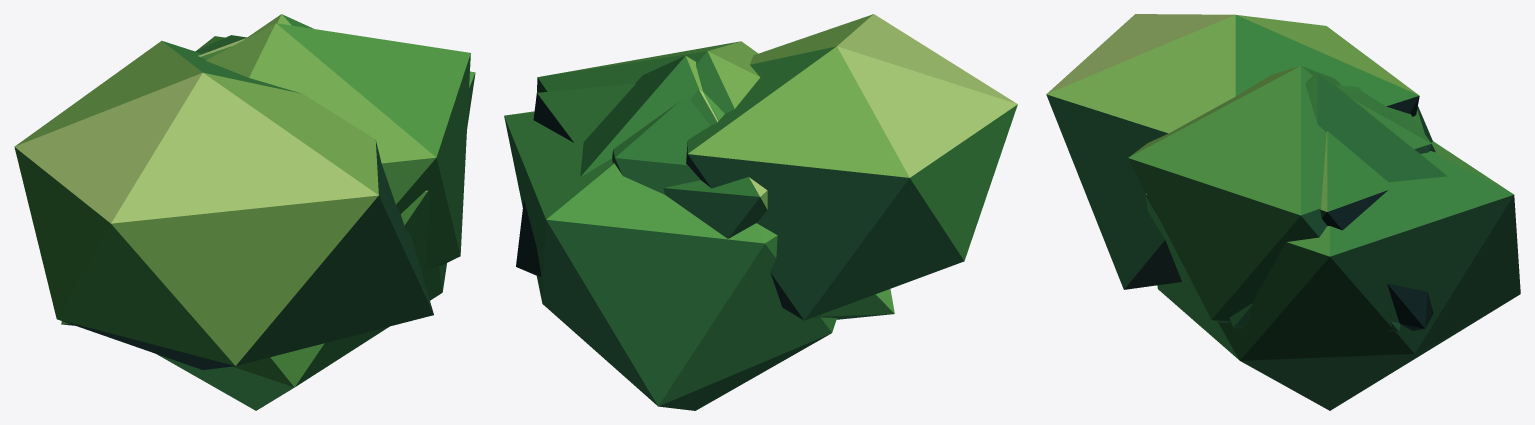
File: bush_round.glb
3 renders of one model, left to right at view 1: azimuth 30°, elevation 25°; view 2: azimuth 150°, elevation 25°; view 3: azimuth 270°, elevation 25°, orthographic. The views are drawn at different scales.
Parts seen in each view (by area): view 1: bush_round; view 2: bush_round; view 3: bush_round.
Boxes of the visible parts, x1,y1,x2,y2 form: bush_round: (14, 14, 475, 410); bush_round: (504, 14, 1017, 410); bush_round: (1046, 14, 1520, 410).
Size of the model in its own units: 0.637 by 0.5163 by 0.6332.
